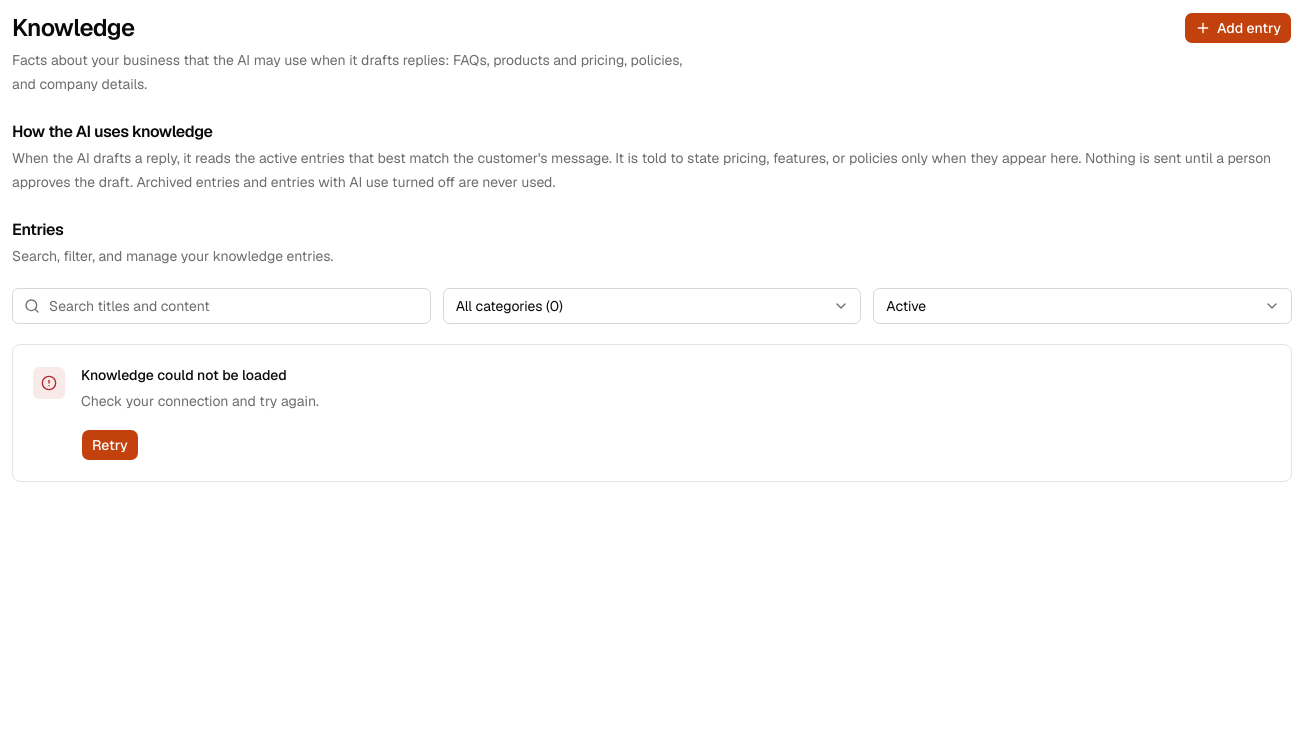
Test: Knowledge page › offers a retry when loading fails
expect the heading "Knowledge could not be loaded" is shown: met, box [81, 365, 319, 385]
Click the button "Retry" at [110, 445], box [81, 429, 139, 461]
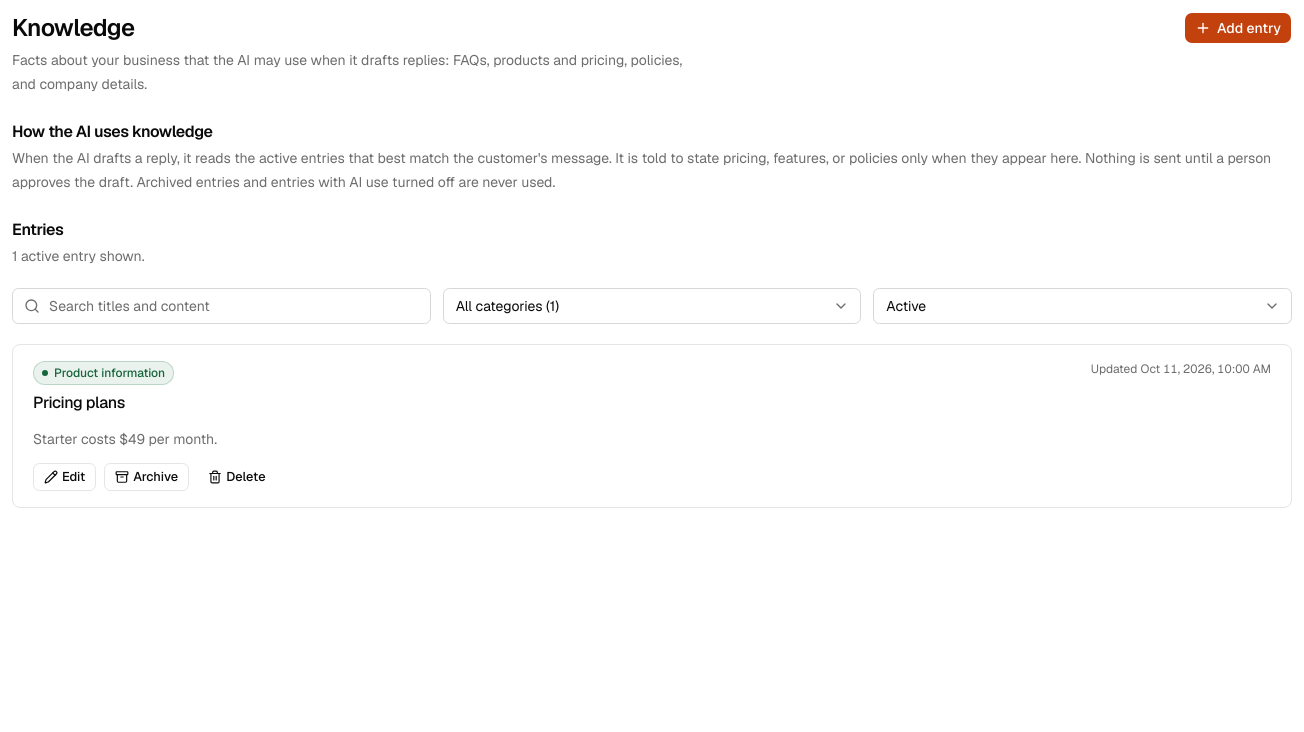
expect the element "Pricing plans" is shown: met, box [12, 344, 1292, 508]
